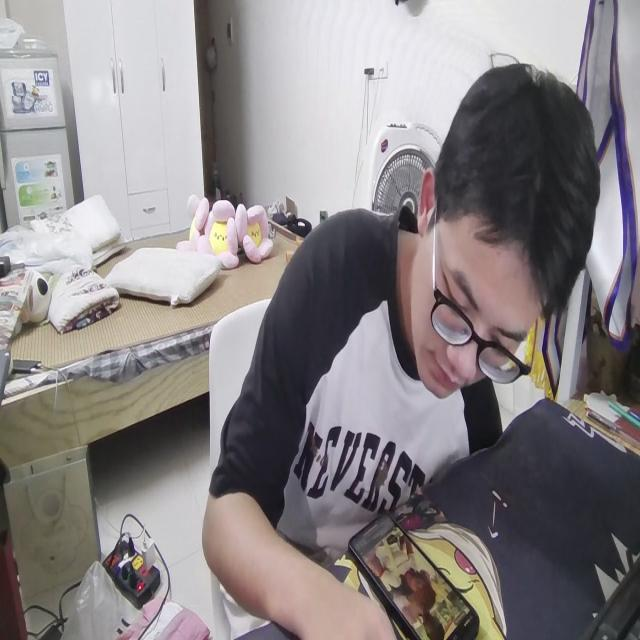phone: (346, 503, 475, 640)
student: (201, 64, 596, 640)
